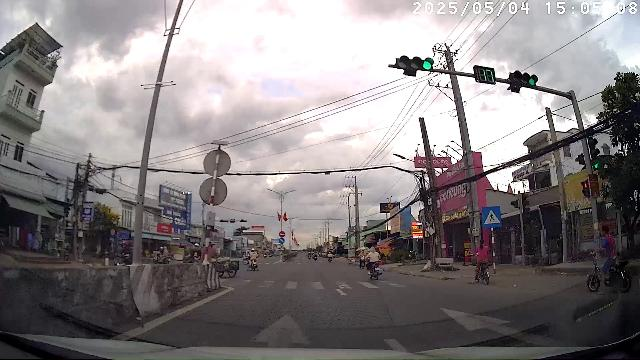102-cam-di-nguoc-chieu: (279, 231, 285, 237)
302a-huong-phai-di-vong-chuong-ngai-vat-1: (278, 237, 285, 244)
423a-duong-nguoi-di-bo-sang-ngang-1: (482, 206, 501, 228)
